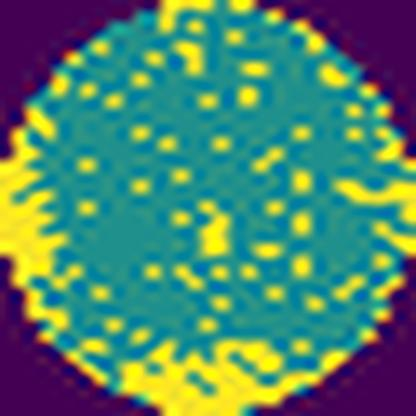Edge-Loc: (66, 337, 357, 416), (0, 104, 68, 339)
